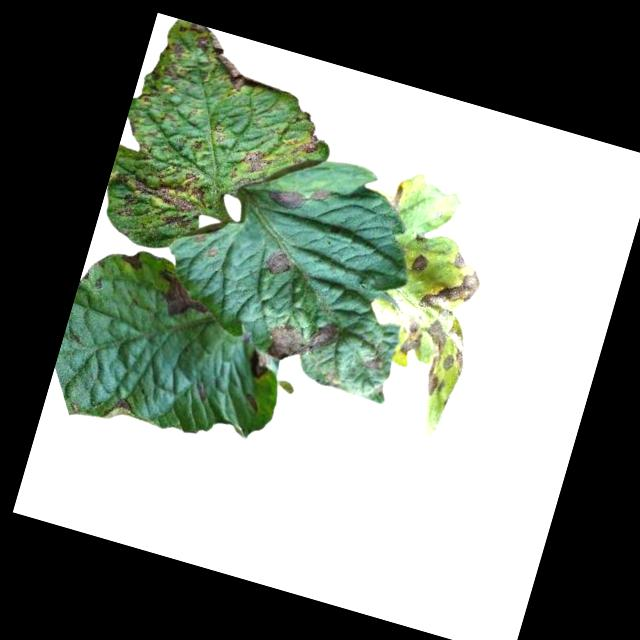Early_blight: (389, 244, 494, 403), (105, 151, 213, 238), (180, 23, 256, 95), (264, 305, 342, 373), (133, 35, 188, 112), (146, 268, 216, 328), (263, 174, 330, 220), (288, 122, 325, 160), (236, 144, 274, 179), (241, 346, 273, 383), (261, 248, 293, 280), (117, 248, 148, 272), (410, 252, 430, 277), (364, 355, 383, 374), (113, 398, 130, 414)
